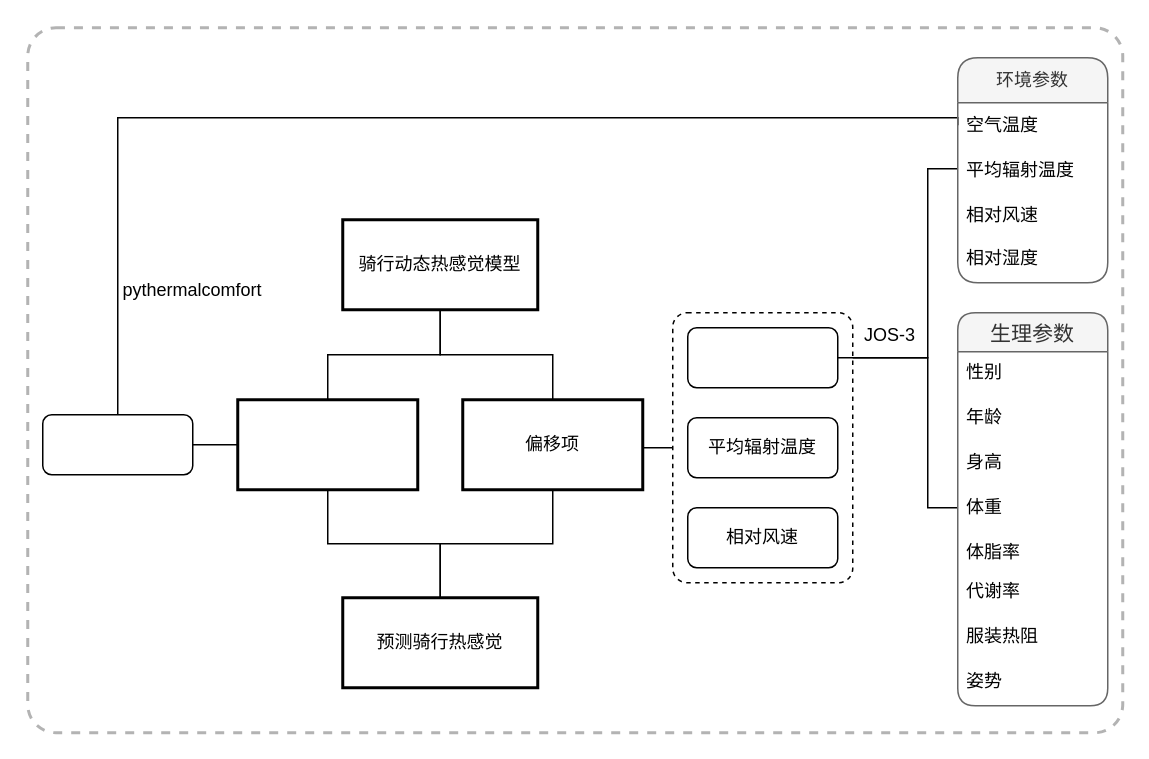
The diagram is 1149 pixels wide and 759 high, and some of its shapes have lost their labels. The centre of each missing label's shape, as x and y in pixels:
"dT sk /dt" belongs at point (762, 357).
"UTCI" belongs at point (117, 444).
"基础项" belongs at point (327, 444).
